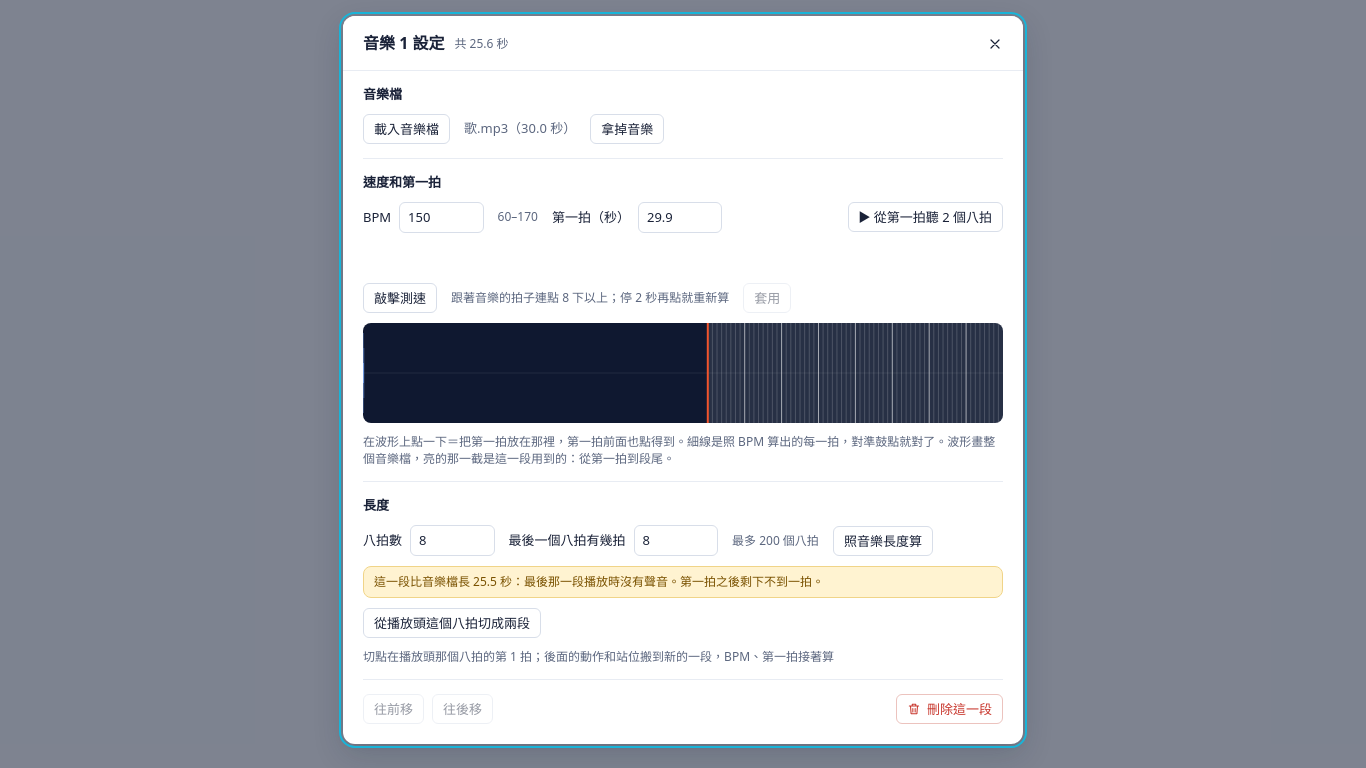
Test: 音樂段設定 › 第一拍離音樂結尾不到一拍：照音樂長度算說剩下不到一拍，長度不改
Click the button "照音樂長度算" at (883, 541), box [833,526,933,556]
(page scrolled)
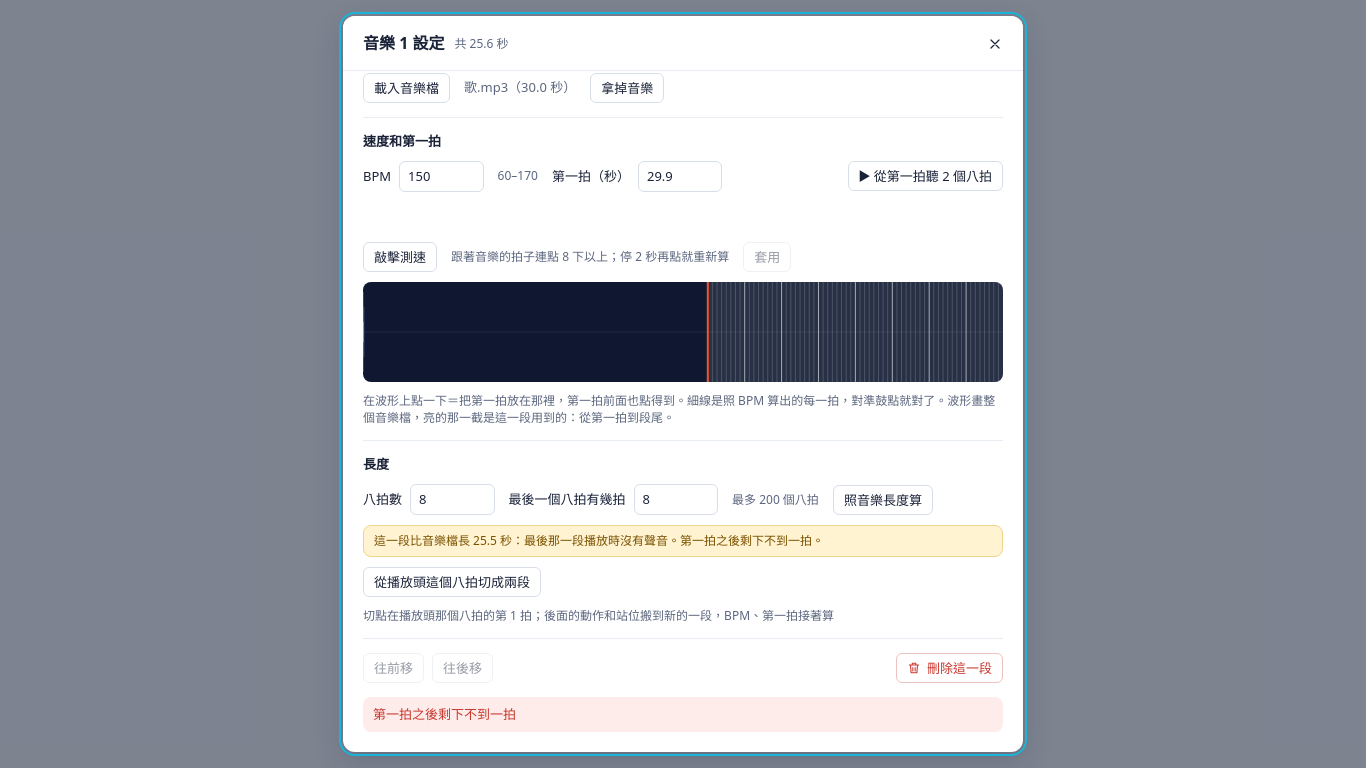
Result: the message reads "第一拍之後剩下不到一拍" at [373,705,516,723]
